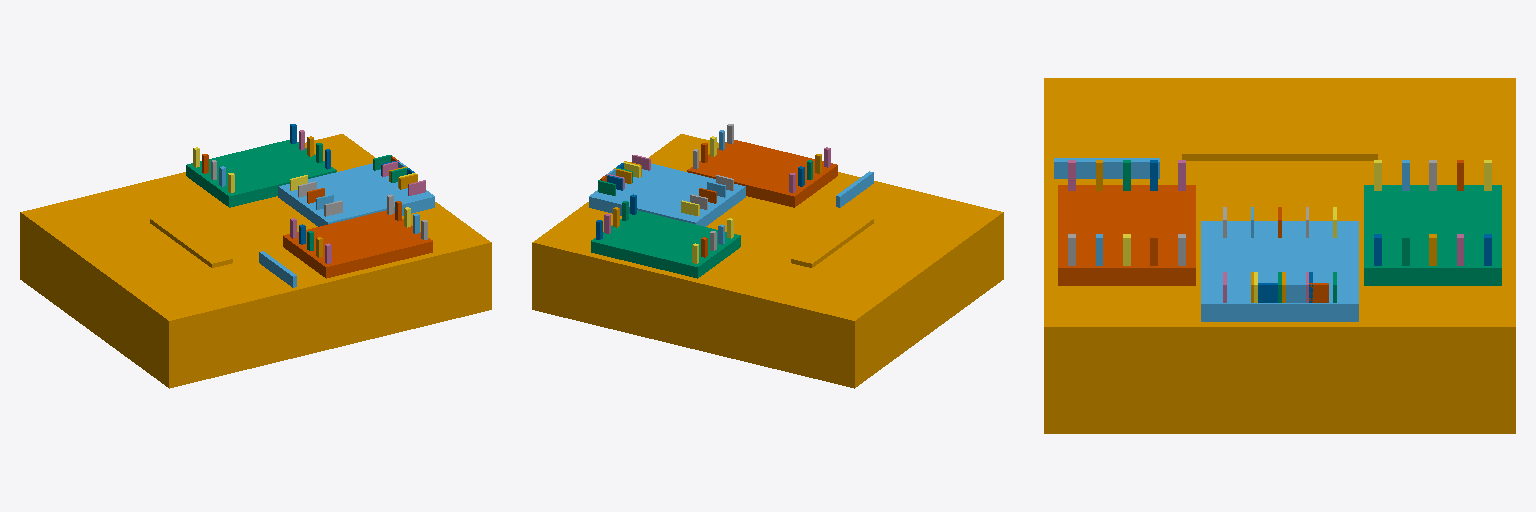
URDF robot description (carritov2):
<?xml version="1.0"?>
<robot name="carritov2">

  <link name="chasis1">
    <inertial>
      <origin xyz="0 0 0" rpy="0 0 0"/>
      <mass value="1.0" />
      <inertia ixx="0.0741666666667" ixy="0.0" ixz="0.0" iyy="0.0585416666667" iyz="0.0" izz="0.0260416666667"/>
    </inertial>
    <visual>
      <geometry>
        <box size="1.5 1.2 0.3"/>
      </geometry>
      <origin rpy="0 0 0" xyz="0.25 0 0.1"/>
    </visual>
  </link>

  <link name="chasis2">
    <inertial>
      <origin xyz="0 0 0" rpy="0 0 0"/>
      <mass value="1.0" />
      <inertia ixx="0.0741666666667" ixy="0.0" ixz="0.0" iyy="0.0585416666667" iyz="0.0" izz="0.0260416666667"/>
    </inertial>
    <visual>
      <geometry>
        <box size="0.5 0.4 0.05"/>
      </geometry>
      <material name="aluminium"/>
      <origin rpy="0 0 0" xyz="0.72 0 0.275"/>
    </visual>
  </link>

  <joint name="chasis1_to_chasis2" type="fixed">
    <parent link="chasis1"/>
    <child link="chasis2"/>
  </joint>

  <link name="soporte1_base1">
    <inertial>
      <origin xyz="0 0 0" rpy="0 0 0"/>
      <mass value="1.0" />
      <inertia ixx="0.0741666666667" ixy="0.0" ixz="0.0" iyy="0.0585416666667" iyz="0.0" izz="0.0260416666667"/>
    </inertial>
    <visual>
      <geometry>
        <box size="0.08 0.01 0.05"/>
      </geometry>
      <origin rpy="0 0 0" xyz="0.92 0 0.325"/>
    </visual>
  </link>

  <joint name="soporte1_base1_to_chasis2" type="fixed">
    <parent link="chasis2"/>
    <child link="soporte1_base1"/>
  </joint>

  <link name="soporte12_base1">
    <inertial>
      <origin xyz="0 0 0" rpy="0 0 0"/>
      <mass value="1.0" />
      <inertia ixx="0.0741666666667" ixy="0.0" ixz="0.0" iyy="0.0585416666667" iyz="0.0" izz="0.0260416666667"/>
    </inertial>
    <visual>
      <geometry>
        <box size="0.08 0.01 0.05"/>
      </geometry>
      <origin rpy="0 0 0" xyz="0.92 -0.06 0.325"/>
    </visual>
  </link>

  <joint name="soporte12_base1_to_chasis2" type="fixed">
    <parent link="chasis2"/>
    <child link="soporte12_base1"/>
  </joint>

  <link name="soporte13_base1">
    <inertial>
      <origin xyz="0 0 0" rpy="0 0 0"/>
      <mass value="1.0" />
      <inertia ixx="0.0741666666667" ixy="0.0" ixz="0.0" iyy="0.0585416666667" iyz="0.0" izz="0.0260416666667"/>
    </inertial>
    <visual>
      <geometry>
        <box size="0.01 0.05 0.05"/>
      </geometry>
      <origin rpy="0 0 0" xyz="0.955 -0.03 0.325"/>
    </visual>
  </link>

  <joint name="soporte13_base1_to_chasis2" type="fixed">
    <parent link="chasis2"/>
    <child link="soporte13_base1"/>
  </joint>

  <link name="soporte1_base2">
    <inertial>
      <origin xyz="0 0 0" rpy="0 0 0"/>
      <mass value="1.0" />
      <inertia ixx="0.0741666666667" ixy="0.0" ixz="0.0" iyy="0.0585416666667" iyz="0.0" izz="0.0260416666667"/>
    </inertial>
    <visual>
      <geometry>
        <box size="0.08 0.01 0.05"/>
      </geometry>
      <origin rpy="0 0 0" xyz="0.53 0 0.325"/>
    </visual>
  </link>

  <joint name="soporte1_base2_to_chasis2" type="fixed">
    <parent link="chasis2"/>
    <child link="soporte1_base2"/>
  </joint>

  <link name="soporte2_base1">
    <inertial>
      <origin xyz="0 0 0" rpy="0 0 0"/>
      <mass value="1.0" />
      <inertia ixx="0.0741666666667" ixy="0.0" ixz="0.0" iyy="0.0585416666667" iyz="0.0" izz="0.0260416666667"/>
    </inertial>
    <visual>
      <geometry>
        <box size="0.08 0.01 0.05"/>
      </geometry>
      <origin rpy="0 0 0" xyz="0.92 0.07 0.325"/>
    </visual>
  </link>

  <joint name="soporte2_base1_to_chasis2" type="fixed">
    <parent link="chasis2"/>
    <child link="soporte2_base1"/>
  </joint>

  <link name="soporte2_base2">
    <inertial>
      <origin xyz="0 0 0" rpy="0 0 0"/>
      <mass value="1.0" />
      <inertia ixx="0.0741666666667" ixy="0.0" ixz="0.0" iyy="0.0585416666667" iyz="0.0" izz="0.0260416666667"/>
    </inertial>
    <visual>
      <geometry>
        <box size="0.08 0.01 0.05"/>
      </geometry>
      <origin rpy="0 0 0" xyz="0.53 0.07 0.325"/>
    </visual>
  </link>

  <joint name="soporte2_base2_to_chasis2" type="fixed">
    <parent link="chasis2"/>
    <child link="soporte2_base2"/>
  </joint>

  <link name="soporte22_base1">
    <inertial>
      <origin xyz="0 0 0" rpy="0 0 0"/>
      <mass value="1.0" />
      <inertia ixx="0.0741666666667" ixy="0.0" ixz="0.0" iyy="0.0585416666667" iyz="0.0" izz="0.0260416666667"/>
    </inertial>
    <visual>
      <geometry>
        <box size="0.08 0.01 0.05"/>
      </geometry>
      <origin rpy="0 0 0" xyz="0.92 0.01 0.325"/>
    </visual>
  </link>

  <joint name="soporte22_base1_to_chasis2" type="fixed">
    <parent link="chasis2"/>
    <child link="soporte22_base1"/>
  </joint>

  <link name="soporte23_base1">
    <inertial>
      <origin xyz="0 0 0" rpy="0 0 0"/>
      <mass value="1.0" />
      <inertia ixx="0.0741666666667" ixy="0.0" ixz="0.0" iyy="0.0585416666667" iyz="0.0" izz="0.0260416666667"/>
    </inertial>
    <visual>
      <geometry>
        <box size="0.01 0.05 0.05"/>
      </geometry>
      <origin rpy="0 0 0" xyz="0.955 0.04 0.325"/>
    </visual>
  </link>

  <joint name="soporte23_base1_to_chasis2" type="fixed">
    <parent link="chasis2"/>
    <child link="soporte23_base1"/>
  </joint>

  <link name="soporte3_base1">
    <inertial>
      <origin xyz="0 0 0" rpy="0 0 0"/>
      <mass value="1.0" />
      <inertia ixx="0.0741666666667" ixy="0.0" ixz="0.0" iyy="0.0585416666667" iyz="0.0" izz="0.0260416666667"/>
    </inertial>
    <visual>
      <geometry>
        <box size="0.08 0.01 0.05"/>
      </geometry>
      <origin rpy="0 0 0" xyz="0.92 0.14 0.325"/>
    </visual>
  </link>

  <joint name="soporte3_base1_to_chasis2" type="fixed">
    <parent link="chasis2"/>
    <child link="soporte3_base1"/>
  </joint>

  <link name="soporte3_base2">
    <inertial>
      <origin xyz="0 0 0" rpy="0 0 0"/>
      <mass value="1.0" />
      <inertia ixx="0.0741666666667" ixy="0.0" ixz="0.0" iyy="0.0585416666667" iyz="0.0" izz="0.0260416666667"/>
    </inertial>
    <visual>
      <geometry>
        <box size="0.08 0.01 0.05"/>
      </geometry>
      <origin rpy="0 0 0" xyz="0.53 0.14 0.325"/>
    </visual>
  </link>

  <joint name="soporte3_base2_to_chasis2" type="fixed">
    <parent link="chasis2"/>
    <child link="soporte3_base2"/>
  </joint>

  <link name="soporte32_base1">
    <inertial>
      <origin xyz="0 0 0" rpy="0 0 0"/>
      <mass value="1.0" />
      <inertia ixx="0.0741666666667" ixy="0.0" ixz="0.0" iyy="0.0585416666667" iyz="0.0" izz="0.0260416666667"/>
    </inertial>
    <visual>
      <geometry>
        <box size="0.08 0.01 0.05"/>
      </geometry>
      <origin rpy="0 0 0" xyz="0.92 0.08 0.325"/>
    </visual>
  </link>

  <joint name="soporte32_base1_to_chasis2" type="fixed">
    <parent link="chasis2"/>
    <child link="soporte32_base1"/>
  </joint>

  <link name="soporte33_base1">
    <inertial>
      <origin xyz="0 0 0" rpy="0 0 0"/>
      <mass value="1.0" />
      <inertia ixx="0.0741666666667" ixy="0.0" ixz="0.0" iyy="0.0585416666667" iyz="0.0" izz="0.0260416666667"/>
    </inertial>
    <visual>
      <geometry>
        <box size="0.01 0.05 0.05"/>
      </geometry>
      <origin rpy="0 0 0" xyz="0.955 0.10 0.325"/>
    </visual>
  </link>

  <joint name="soporte33_base1_to_chasis2" type="fixed">
    <parent link="chasis2"/>
    <child link="soporte33_base1"/>
  </joint>

  <link name="soporte4_base1">
    <inertial>
      <origin xyz="0 0 0" rpy="0 0 0"/>
      <mass value="1.0" />
      <inertia ixx="0.0741666666667" ixy="0.0" ixz="0.0" iyy="0.0585416666667" iyz="0.0" izz="0.0260416666667"/>
    </inertial>
    <visual>
      <geometry>
        <box size="0.08 0.01 0.05"/>
      </geometry>
      <origin rpy="0 0 0" xyz="0.92 -0.14 0.325"/>
    </visual>
  </link>

  <joint name="soporte4_base1_to_chasis2" type="fixed">
    <parent link="chasis2"/>
    <child link="soporte4_base1"/>
  </joint>

  <link name="soporte4_base2">
    <inertial>
      <origin xyz="0 0 0" rpy="0 0 0"/>
      <mass value="1.0" />
      <inertia ixx="0.0741666666667" ixy="0.0" ixz="0.0" iyy="0.0585416666667" iyz="0.0" izz="0.0260416666667"/>
    </inertial>
    <visual>
      <geometry>
        <box size="0.08 0.01 0.05"/>
      </geometry>
      <origin rpy="0 0 0" xyz="0.53 -0.14 0.325"/>
    </visual>
  </link>

  <joint name="soporte4_base2_to_chasis2" type="fixed">
    <parent link="chasis2"/>
    <child link="soporte4_base2"/>
  </joint>

  <link name="soporte5_base1">
    <inertial>
      <origin xyz="0 0 0" rpy="0 0 0"/>
      <mass value="1.0" />
      <inertia ixx="0.0741666666667" ixy="0.0" ixz="0.0" iyy="0.0585416666667" iyz="0.0" izz="0.0260416666667"/>
    </inertial>
    <visual>
      <geometry>
        <box size="0.08 0.01 0.05"/>
      </geometry>
      <origin rpy="0 0 0" xyz="0.92 -0.07 0.325"/>
    </visual>
  </link>

  <joint name="soporte5_base1_to_chasis2" type="fixed">
    <parent link="chasis2"/>
    <child link="soporte5_base1"/>
  </joint>

  <link name="soporte5_base2">
    <inertial>
      <origin xyz="0 0 0" rpy="0 0 0"/>
      <mass value="1.0" />
      <inertia ixx="0.0741666666667" ixy="0.0" ixz="0.0" iyy="0.0585416666667" iyz="0.0" izz="0.0260416666667"/>
    </inertial>
    <visual>
      <geometry>
        <box size="0.08 0.01 0.05"/>
      </geometry>
      <origin rpy="0 0 0" xyz="0.53 -0.07 0.325"/>
    </visual>
  </link>

  <joint name="soporte5_base2_to_chasis2" type="fixed">
    <parent link="chasis2"/>
    <child link="soporte5_base2"/>
  </joint>

  <link name="chasis3">
    <inertial>
      <origin xyz="0 0 0" rpy="0 0 0"/>
      <mass value="1.0" />
      <inertia ixx="0.0741666666667" ixy="0.0" ixz="0.0" iyy="0.0585416666667" iyz="0.0" izz="0.0260416666667"/>
    </inertial>
    <visual>
      <geometry>
        <box size="0.5 0.35 0.05"/>
      </geometry>
      <material name="aluminium"/>
      <origin rpy="0 0 0" xyz="0.5 0.39 0.275"/>
    </visual>
  </link>

  <joint name="chasis1_to_chasis3" type="fixed">
    <parent link="chasis1"/>
    <child link="chasis3"/>
  </joint>

  <link name="soporte1_base3">
    <inertial>
      <origin xyz="0 0 0" rpy="0 0 0"/>
      <mass value="1.0" />
      <inertia ixx="0.0741666666667" ixy="0.0" ixz="0.0" iyy="0.0585416666667" iyz="0.0" izz="0.0260416666667"/>
    </inertial>
    <visual>
      <geometry>
        <box size="0.02 0.02 0.08"/>
      </geometry>
      <origin rpy="0 0 0" xyz="0.28 0.53 0.34"/>
    </visual>
  </link>

  <joint name="soporte1_base3_to_chasis3" type="fixed">
    <parent link="chasis3"/>
    <child link="soporte1_base3"/>
  </joint>

  <link name="soporte1_base4">
    <inertial>
      <origin xyz="0 0 0" rpy="0 0 0"/>
      <mass value="1.0" />
      <inertia ixx="0.0741666666667" ixy="0.0" ixz="0.0" iyy="0.0585416666667" iyz="0.0" izz="0.0260416666667"/>
    </inertial>
    <visual>
      <geometry>
        <box size="0.02 0.02 0.08"/>
      </geometry>
      <origin rpy="0 0 0" xyz="0.73 0.53 0.34"/>
    </visual>
  </link>

  <joint name="soporte1_base4_to_chasis3" type="fixed">
    <parent link="chasis3"/>
    <child link="soporte1_base4"/>
  </joint>

  <link name="soporte2_base3">
    <inertial>
      <origin xyz="0 0 0" rpy="0 0 0"/>
      <mass value="1.0" />
      <inertia ixx="0.0741666666667" ixy="0.0" ixz="0.0" iyy="0.0585416666667" iyz="0.0" izz="0.0260416666667"/>
    </inertial>
    <visual>
      <geometry>
        <box size="0.02 0.02 0.08"/>
      </geometry>
      <origin rpy="0 0 0" xyz="0.28 0.46 0.34"/>
    </visual>
  </link>

  <joint name="soporte2_base3_to_chasis3" type="fixed">
    <parent link="chasis3"/>
    <child link="soporte2_base3"/>
  </joint>

  <link name="soporte2_base4">
    <inertial>
      <origin xyz="0 0 0" rpy="0 0 0"/>
      <mass value="1.0" />
      <inertia ixx="0.0741666666667" ixy="0.0" ixz="0.0" iyy="0.0585416666667" iyz="0.0" izz="0.0260416666667"/>
    </inertial>
    <visual>
      <geometry>
        <box size="0.02 0.02 0.08"/>
      </geometry>
      <origin rpy="0 0 0" xyz="0.73 0.46 0.34"/>
    </visual>
  </link>

  <joint name="soporte2_base4_to_chasis3" type="fixed">
    <parent link="chasis3"/>
    <child link="soporte2_base4"/>
  </joint>

  <link name="soporte3_base3">
    <inertial>
      <origin xyz="0 0 0" rpy="0 0 0"/>
      <mass value="1.0" />
      <inertia ixx="0.0741666666667" ixy="0.0" ixz="0.0" iyy="0.0585416666667" iyz="0.0" izz="0.0260416666667"/>
    </inertial>
    <visual>
      <geometry>
        <box size="0.02 0.02 0.08"/>
      </geometry>
      <origin rpy="0 0 0" xyz="0.28 0.39 0.34"/>
    </visual>
  </link>

  <joint name="soporte3_base3_to_chasis3" type="fixed">
    <parent link="chasis3"/>
    <child link="soporte3_base3"/>
  </joint>

  <link name="soporte3_base4">
    <inertial>
      <origin xyz="0 0 0" rpy="0 0 0"/>
      <mass value="1.0" />
      <inertia ixx="0.0741666666667" ixy="0.0" ixz="0.0" iyy="0.0585416666667" iyz="0.0" izz="0.0260416666667"/>
    </inertial>
    <visual>
      <geometry>
        <box size="0.02 0.02 0.08"/>
      </geometry>
      <origin rpy="0 0 0" xyz="0.73 0.39 0.34"/>
    </visual>
  </link>

  <joint name="soporte3_base4_to_chasis3" type="fixed">
    <parent link="chasis3"/>
    <child link="soporte3_base4"/>
  </joint>

  <link name="soporte4_base3">
    <inertial>
      <origin xyz="0 0 0" rpy="0 0 0"/>
      <mass value="1.0" />
      <inertia ixx="0.0741666666667" ixy="0.0" ixz="0.0" iyy="0.0585416666667" iyz="0.0" izz="0.0260416666667"/>
    </inertial>
    <visual>
      <geometry>
        <box size="0.02 0.02 0.08"/>
      </geometry>
      <origin rpy="0 0 0" xyz="0.28 0.32 0.34"/>
    </visual>
  </link>

  <joint name="soporte4_base3_to_chasis3" type="fixed">
    <parent link="chasis3"/>
    <child link="soporte4_base3"/>
  </joint>

  <link name="soporte4_base4">
    <inertial>
      <origin xyz="0 0 0" rpy="0 0 0"/>
      <mass value="1.0" />
      <inertia ixx="0.0741666666667" ixy="0.0" ixz="0.0" iyy="0.0585416666667" iyz="0.0" izz="0.0260416666667"/>
    </inertial>
    <visual>
      <geometry>
        <box size="0.02 0.02 0.08"/>
      </geometry>
      <origin rpy="0 0 0" xyz="0.73 0.32 0.34"/>
    </visual>
  </link>

  <joint name="soporte4_base4_to_chasis3" type="fixed">
    <parent link="chasis3"/>
    <child link="soporte4_base4"/>
  </joint>

  <link name="soporte5_base3">
    <inertial>
      <origin xyz="0 0 0" rpy="0 0 0"/>
      <mass value="1.0" />
      <inertia ixx="0.0741666666667" ixy="0.0" ixz="0.0" iyy="0.0585416666667" iyz="0.0" izz="0.0260416666667"/>
    </inertial>
    <visual>
      <geometry>
        <box size="0.02 0.02 0.08"/>
      </geometry>
      <origin rpy="0 0 0" xyz="0.28 0.25 0.34"/>
    </visual>
  </link>

  <joint name="soporte5_base3_to_chasis3" type="fixed">
    <parent link="chasis3"/>
    <child link="soporte5_base3"/>
  </joint>

  <link name="soporte5_base4">
    <inertial>
      <origin xyz="0 0 0" rpy="0 0 0"/>
      <mass value="1.0" />
      <inertia ixx="0.0741666666667" ixy="0.0" ixz="0.0" iyy="0.0585416666667" iyz="0.0" izz="0.0260416666667"/>
    </inertial>
    <visual>
      <geometry>
        <box size="0.02 0.02 0.08"/>
      </geometry>
      <origin rpy="0 0 0" xyz="0.73 0.25 0.34"/>
    </visual>
  </link>

  <joint name="soporte5_base4_to_chasis3" type="fixed">
    <parent link="chasis3"/>
    <child link="soporte5_base4"/>
  </joint>

  <link name="chasis4">
    <inertial>
      <origin xyz="0 0 0" rpy="0 0 0"/>
      <mass value="1.0" />
      <inertia ixx="0.0741666666667" ixy="0.0" ixz="0.0" iyy="0.0585416666667" iyz="0.0" izz="0.0260416666667"/>
    </inertial>
    <visual>
      <geometry>
        <box size="0.5 0.35 0.05"/>
      </geometry>
      <material name="aluminium"/>
      <origin rpy="0 0 0" xyz="0.5 -0.39 0.275"/>
    </visual>
  </link>

  <joint name="chasis1_to_chasis4" type="fixed">
    <parent link="chasis1"/>
    <child link="chasis4"/>
  </joint>

  <link name="soporte1_base5">
    <inertial>
      <origin xyz="0 0 0" rpy="0 0 0"/>
      <mass value="1.0" />
      <inertia ixx="0.0741666666667" ixy="0.0" ixz="0.0" iyy="0.0585416666667" iyz="0.0" izz="0.0260416666667"/>
    </inertial>
    <visual>
      <geometry>
        <box size="0.02 0.02 0.08"/>
      </geometry>
      <origin rpy="0 0 0" xyz="0.28 -0.53 0.34"/>
    </visual>
  </link>

  <joint name="soporte1_base5_to_chasis4" type="fixed">
    <parent link="chasis4"/>
    <child link="soporte1_base5"/>
  </joint>

  <link name="soporte1_base6">
    <inertial>
      <origin xyz="0 0 0" rpy="0 0 0"/>
      <mass value="1.0" />
      <inertia ixx="0.0741666666667" ixy="0.0" ixz="0.0" iyy="0.0585416666667" iyz="0.0" izz="0.0260416666667"/>
    </inertial>
    <visual>
      <geometry>
        <box size="0.02 0.02 0.08"/>
      </geometry>
      <origin rpy="0 0 0" xyz="0.73 -0.53 0.34"/>
    </visual>
  </link>

  <joint name="soporte1_base6_to_chasis4" type="fixed">
    <parent link="chasis4"/>
    <child link="soporte1_base6"/>
  </joint>

  <link name="soporte2_base5">
    <inertial>
      <origin xyz="0 0 0" rpy="0 0 0"/>
      <mass value="1.0" />
      <inertia ixx="0.0741666666667" ixy="0.0" ixz="0.0" iyy="0.0585416666667" iyz="0.0" izz="0.0260416666667"/>
    </inertial>
    <visual>
      <geometry>
        <box size="0.02 0.02 0.08"/>
      </geometry>
      <origin rpy="0 0 0" xyz="0.28 -0.46 0.34"/>
    </visual>
  </link>

  <joint name="soporte2_base5_to_chasis4" type="fixed">
    <parent link="chasis4"/>
    <child link="soporte2_base5"/>
  </joint>

  <link name="soporte2_base6">
    <inertial>
      <origin xyz="0 0 0" rpy="0 0 0"/>
      <mass value="1.0" />
      <inertia ixx="0.0741666666667" ixy="0.0" ixz="0.0" iyy="0.0585416666667" iyz="0.0" izz="0.0260416666667"/>
    </inertial>
    <visual>
      <geometry>
        <box size="0.02 0.02 0.08"/>
      </geometry>
      <origin rpy="0 0 0" xyz="0.73 -0.46 0.34"/>
    </visual>
  </link>

  <joint name="soporte2_base6_to_chasis4" type="fixed">
    <parent link="chasis4"/>
    <child link="soporte2_base6"/>
  </joint>

  <link name="soporte3_base5">
    <inertial>
      <origin xyz="0 0 0" rpy="0 0 0"/>
      <mass value="1.0" />
      <inertia ixx="0.0741666666667" ixy="0.0" ixz="0.0" iyy="0.0585416666667" iyz="0.0" izz="0.0260416666667"/>
    </inertial>
    <visual>
      <geometry>
        <box size="0.02 0.02 0.08"/>
      </geometry>
      <origin rpy="0 0 0" xyz="0.28 -0.39 0.34"/>
    </visual>
  </link>

  <joint name="soporte3_base5_to_chasis4" type="fixed">
    <parent link="chasis4"/>
    <child link="soporte3_base5"/>
  </joint>

  <link name="soporte3_base6">
    <inertial>
      <origin xyz="0 0 0" rpy="0 0 0"/>
      <mass value="1.0" />
      <inertia ixx="0.0741666666667" ixy="0.0" ixz="0.0" iyy="0.0585416666667" iyz="0.0" izz="0.0260416666667"/>
    </inertial>
    <visual>
      <geometry>
        <box size="0.02 0.02 0.08"/>
      </geometry>
      <origin rpy="0 0 0" xyz="0.73 -0.39 0.34"/>
    </visual>
  </link>

  <joint name="soporte3_base6_to_chasis4" type="fixed">
    <parent link="chasis4"/>
    <child link="soporte3_base6"/>
  </joint>

  <link name="soporte4_base5">
    <inertial>
      <origin xyz="0 0 0" rpy="0 0 0"/>
      <mass value="1.0" />
      <inertia ixx="0.0741666666667" ixy="0.0" ixz="0.0" iyy="0.0585416666667" iyz="0.0" izz="0.0260416666667"/>
    </inertial>
    <visual>
      <geometry>
        <box size="0.02 0.02 0.08"/>
      </geometry>
      <origin rpy="0 0 0" xyz="0.28 -0.32 0.34"/>
    </visual>
  </link>

  <joint name="soporte4_base5_to_chasis4" type="fixed">
    <parent link="chasis4"/>
    <child link="soporte4_base5"/>
  </joint>

  <link name="soporte4_base6">
    <inertial>
      <origin xyz="0 0 0" rpy="0 0 0"/>
      <mass value="1.0" />
      <inertia ixx="0.0741666666667" ixy="0.0" ixz="0.0" iyy="0.0585416666667" iyz="0.0" izz="0.0260416666667"/>
    </inertial>
    <visual>
      <geometry>
        <box size="0.02 0.02 0.08"/>
      </geometry>
      <origin rpy="0 0 0" xyz="0.73 -0.32 0.34"/>
    </visual>
  </link>

  <joint name="soporte4_base6_to_chasis4" type="fixed">
    <parent link="chasis4"/>
    <child link="soporte4_base6"/>
  </joint>

  <link name="soporte5_base5">
    <inertial>
      <origin xyz="0 0 0" rpy="0 0 0"/>
      <mass value="1.0" />
      <inertia ixx="0.0741666666667" ixy="0.0" ixz="0.0" iyy="0.0585416666667" iyz="0.0" izz="0.0260416666667"/>
    </inertial>
    <visual>
      <geometry>
        <box size="0.02 0.02 0.08"/>
      </geometry>
      <origin rpy="0 0 0" xyz="0.28 -0.25 0.34"/>
    </visual>
  </link>

  <joint name="soporte5_base5_to_chasis4" type="fixed">
    <parent link="chasis4"/>
    <child link="soporte5_base5"/>
  </joint>

  <link name="soporte5_base6">
    <inertial>
      <origin xyz="0 0 0" rpy="0 0 0"/>
      <mass value="1.0" />
      <inertia ixx="0.0741666666667" ixy="0.0" ixz="0.0" iyy="0.0585416666667" iyz="0.0" izz="0.0260416666667"/>
    </inertial>
    <visual>
      <geometry>
        <box size="0.02 0.02 0.08"/>
      </geometry>
      <origin rpy="0 0 0" xyz="0.73 -0.25 0.34"/>
    </visual>
  </link>

  <joint name="soporte5_base6_to_chasis4" type="fixed">
    <parent link="chasis4"/>
    <child link="soporte5_base6"/>
  </joint>

  <link name="zona_union">
    <inertial>
      <origin xyz="0 0 0" rpy="0 0 0"/>
      <mass value="1.0" />
      <inertia ixx="0.0741666666667" ixy="0.0" ixz="0.0" iyy="0.0585416666667" iyz="0.0" izz="0.0260416666667"/>
    </inertial>
    <visual>
      <geometry>
        <box size="0.1 0.5 0.02"/>
      </geometry>
      <material name="aluminium"/>
      <origin rpy="0 0 0" xyz="-0.05 0 0.26"/>
    </visual>
  </link>

  <joint name="chasis1_to_zona_union" type="fixed">
    <parent link="chasis1"/>
    <child link="zona_union"/>
  </joint>

  <link name="pared1_buffer">
    <inertial>
      <origin xyz="0 0 0" rpy="0 0 0"/>
      <mass value="1.0" />
      <inertia ixx="0.0741666666667" ixy="0.0" ixz="0.0" iyy="0.0585416666667" iyz="0.0" izz="0.0260416666667"/>
    </inertial>
    <visual>
      <geometry>
        <box size="0.02 0.27 0.05"/>
      </geometry>
      <material name="aluminium"/>
      <origin rpy="0 0 0" xyz="0.1 -0.44 0.275"/>
    </visual>
  </link>

  <joint name="chasis1_to_pared1_buffer" type="fixed">
    <parent link="chasis1"/>
    <child link="pared1_buffer"/>
  </joint>

  <!--<link name="pared2_buffer">
    <inertial>
      <origin xyz="0 0 0" rpy="0 0 0"/>
      <mass value="1.0" />
      <inertia ixx="0.0741666666667" ixy="0.0" ixz="0.0" iyy="0.0585416666667" iyz="0.0" izz="0.0260416666667"/>
    </inertial>
    <visual>
      <geometry>
        <box size="0.02 0.27 0.05"/>
      </geometry>
      <material name="aluminium"/>
      <origin rpy="0 0 0" xyz="0.1 -0.44 0.275"/>
    </visual>
  </link>

  <joint name="chasis1_to_pared2_buffer" type="fixed">
    <parent link="chasis1"/>
    <child link="pared1_buffer"/>
  </joint>-->

  <!--<gazebo>
    <plugin name="gazebo_ros_control" filename="libgazebo_ros_control.so">
      <robotNamespace>/</robotNamespace>
    </plugin>
  </gazebo>-->

  <gazebo>
    <static>true</static>
  </gazebo>

</robot>

--- Facts derived from the render (not from the file) ---
3 views of the same robot in one strip: view 1: azimuth 30°, elevation 25°; view 2: azimuth 150°, elevation 25°; view 3: azimuth 270°, elevation 25° (orthographic).
Model carritov2 with 42 links and 41 joints (41 fixed), rooted at chasis1, posed all joints at 0.
Visible links, largest first — view 1: chasis1, chasis4, chasis3, chasis2, zona_union, pared1_buffer; view 2: chasis1, chasis3, chasis4, chasis2, zona_union, pared1_buffer; view 3: chasis1, chasis2, chasis3, chasis4, zona_union, pared1_buffer.
Link boxes in pixels (x1,y1,x2,y2): chasis1: [20, 134, 491, 388]; chasis4: [283, 210, 432, 278]; chasis3: [186, 140, 336, 207]; chasis2: [278, 163, 434, 226]; zona_union: [150, 213, 232, 267]; pared1_buffer: [259, 251, 296, 287]; chasis1: [532, 134, 1003, 388]; chasis3: [591, 210, 740, 278]; chasis4: [687, 140, 837, 207]; chasis2: [589, 163, 745, 226]; zona_union: [791, 213, 873, 267]; pared1_buffer: [836, 171, 873, 207]; chasis1: [1044, 78, 1515, 433]; chasis2: [1201, 221, 1358, 321]; chasis3: [1364, 185, 1501, 285]; chasis4: [1058, 185, 1195, 285]; zona_union: [1182, 137, 1377, 160]; pared1_buffer: [1054, 158, 1159, 178].
Bounding box of the posed robot: 1.5 × 1.2 × 0.43 m (x, y, z).
Geometry: primitives only (box / cylinder / sphere), no mesh files.